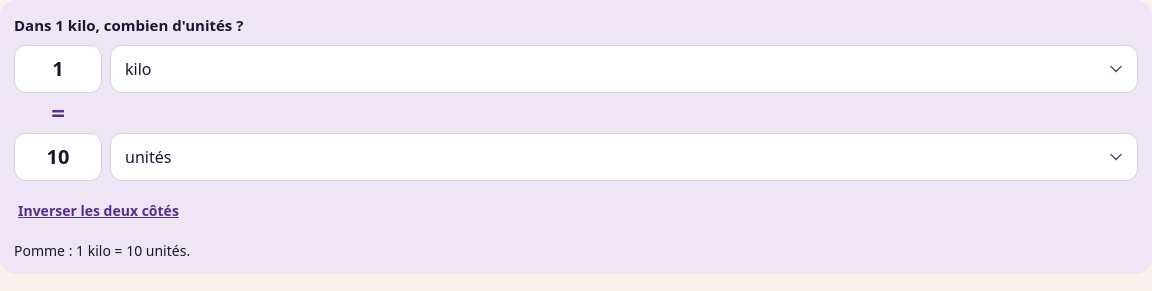
Test: ConversionEquation › pour un ingrédient › élide « de » devant une voyelle et accorde un nom composé
Select "cuillères à soupe" in the dropdown named "Unité d". click: (624, 156)
box: x1=110 y1=132 x2=1138 y2=180
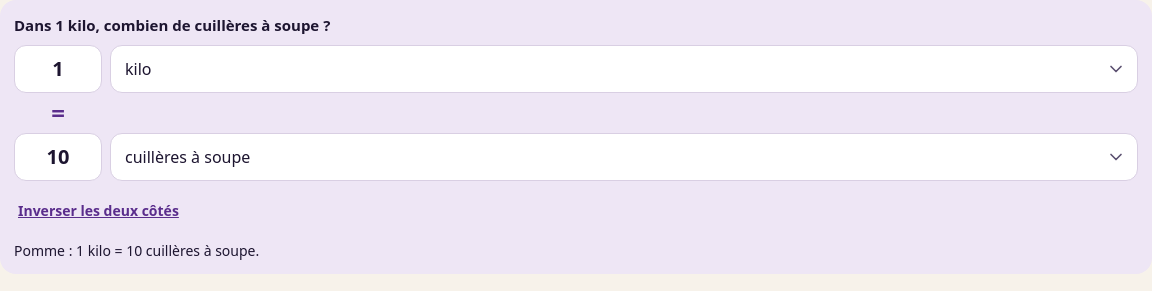
Result: the text "Dans 1 kilo, combien de cuillères à soupe ?" is shown at x1=14 y1=15 x2=330 y2=35
